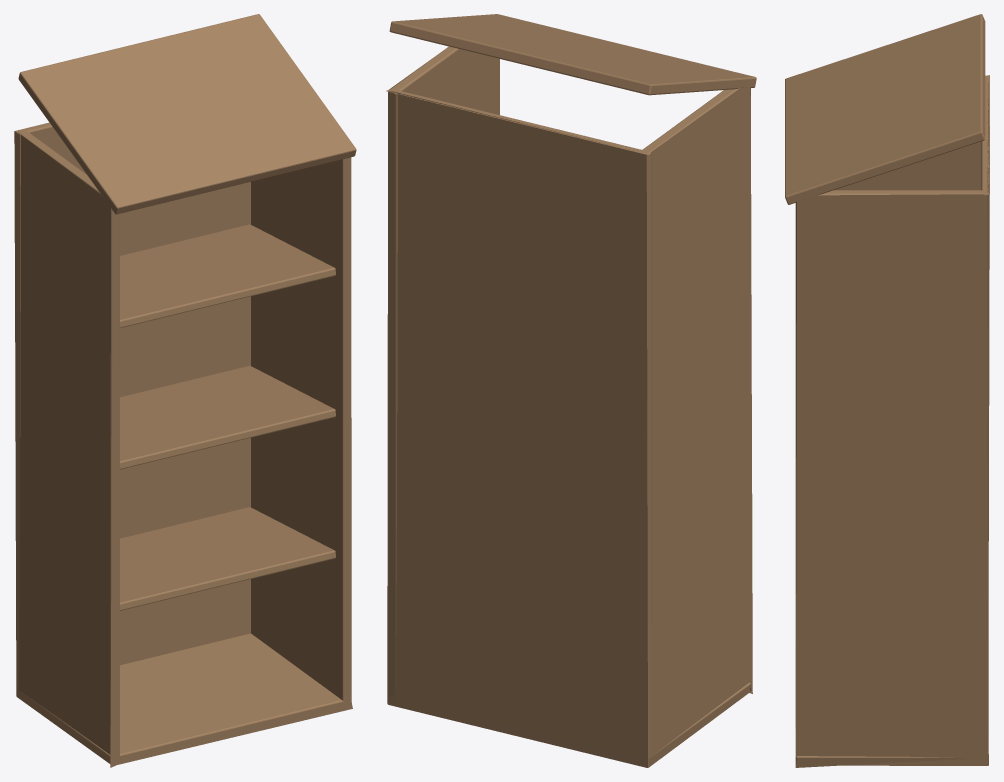
File: PROP_Wardrobe_AntiLigature.glb
3 views of the same model, side by side, from view 1: azimuth 30°, elevation 25°; view 2: azimuth 150°, elevation 25°; view 3: azimuth 270°, elevation 25° (orthographic). The views are drawn at different scales.
Parts seen in each view (by area): view 1: PROP_Wardrobe_AntiLigature_Mesh; view 2: PROP_Wardrobe_AntiLigature_Mesh; view 3: PROP_Wardrobe_AntiLigature_Mesh.
Part boxes in pixels (box(x1,y1,x2,y2)): PROP_Wardrobe_AntiLigature_Mesh: box(14, 14, 356, 767); PROP_Wardrobe_AntiLigature_Mesh: box(386, 14, 756, 767); PROP_Wardrobe_AntiLigature_Mesh: box(785, 14, 989, 767).
Size of what is drawn, in the model's own units: 0.808 by 2 by 0.5846.
